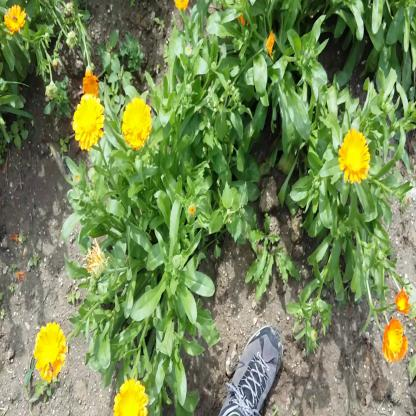marigold: (32, 320, 65, 381), (72, 94, 104, 147), (339, 128, 370, 182), (123, 98, 150, 148), (114, 378, 148, 413), (382, 321, 404, 358), (4, 2, 26, 31)
